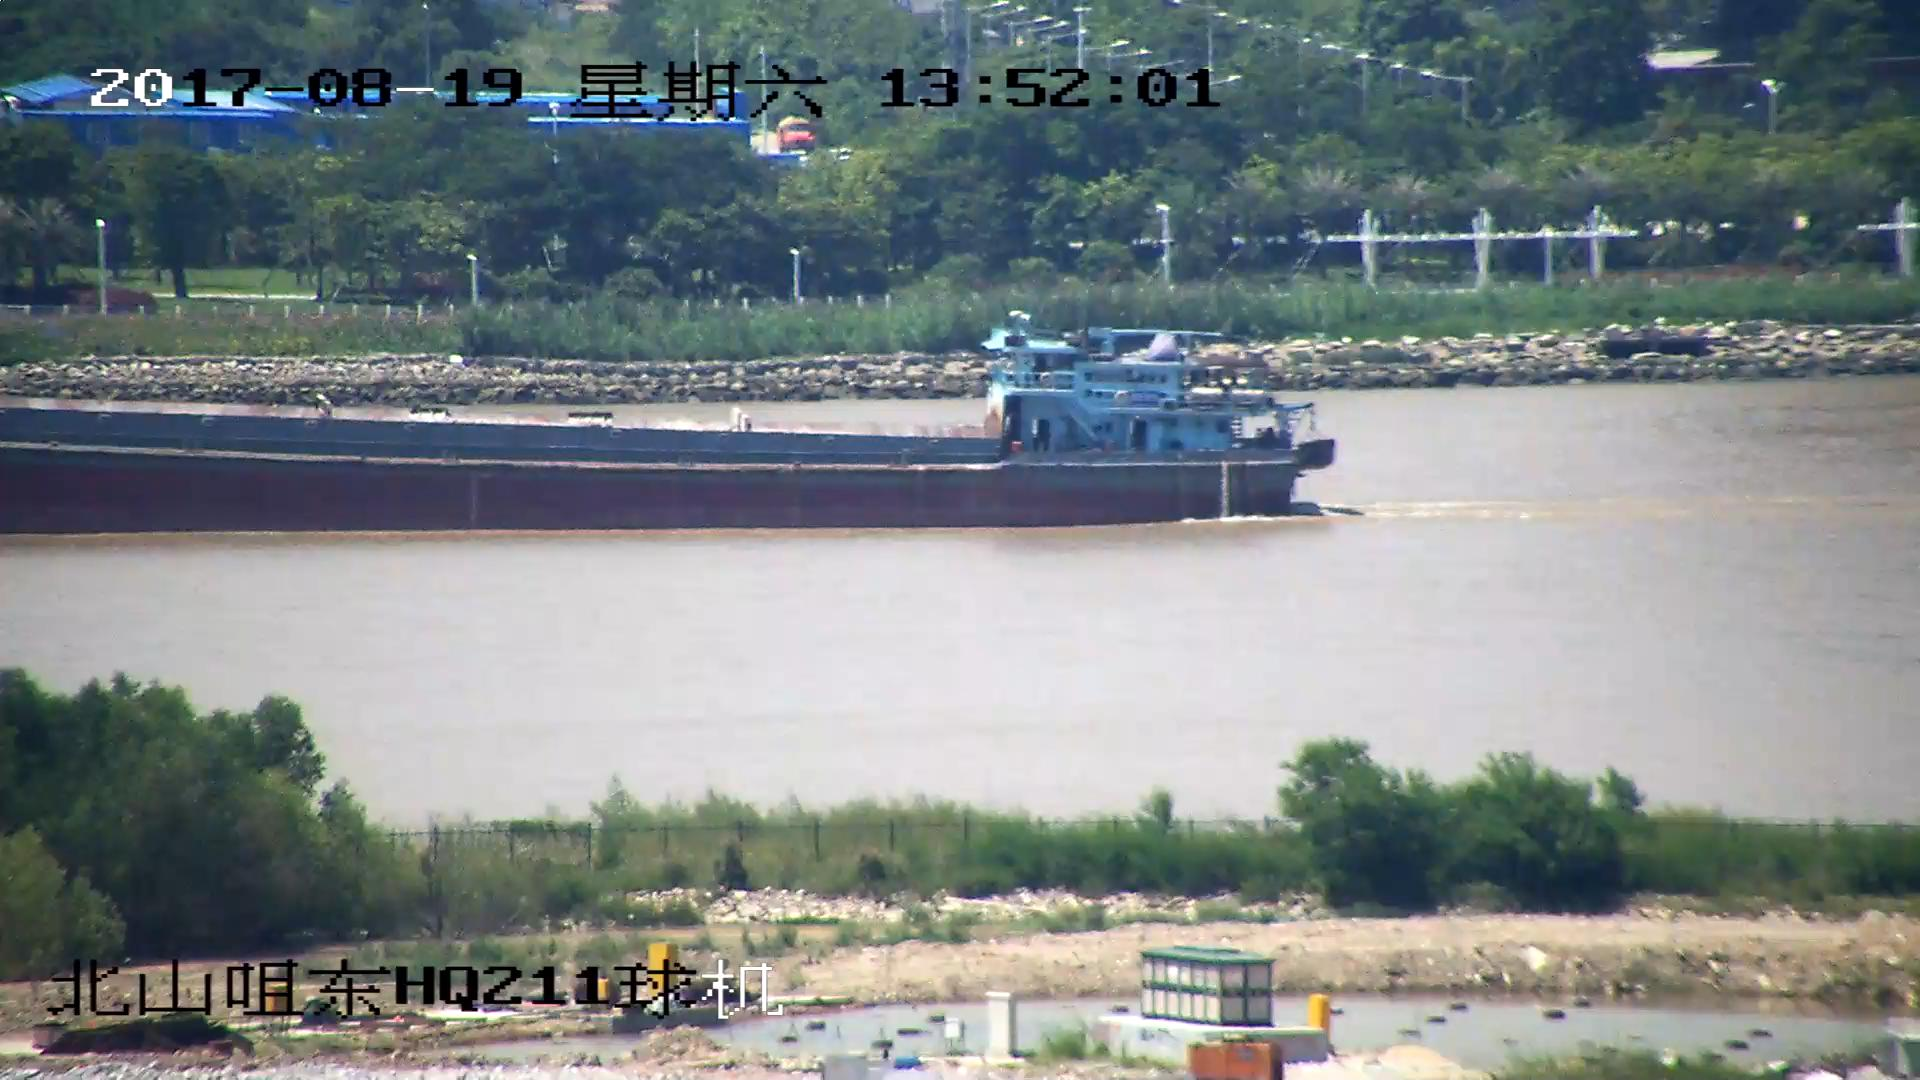bulk cargo carrier: (1, 307, 1340, 531)
